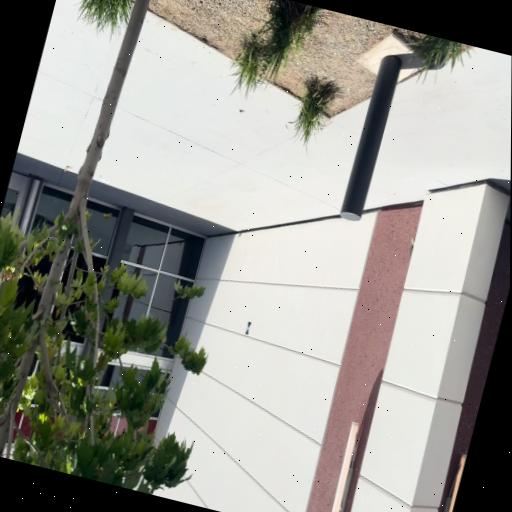target7: (245, 321, 252, 335)
